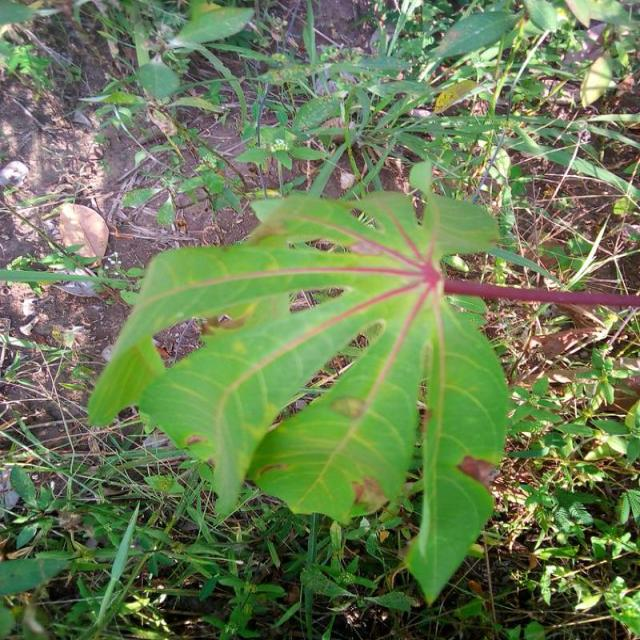cassava leaf: (89, 178, 514, 604)
